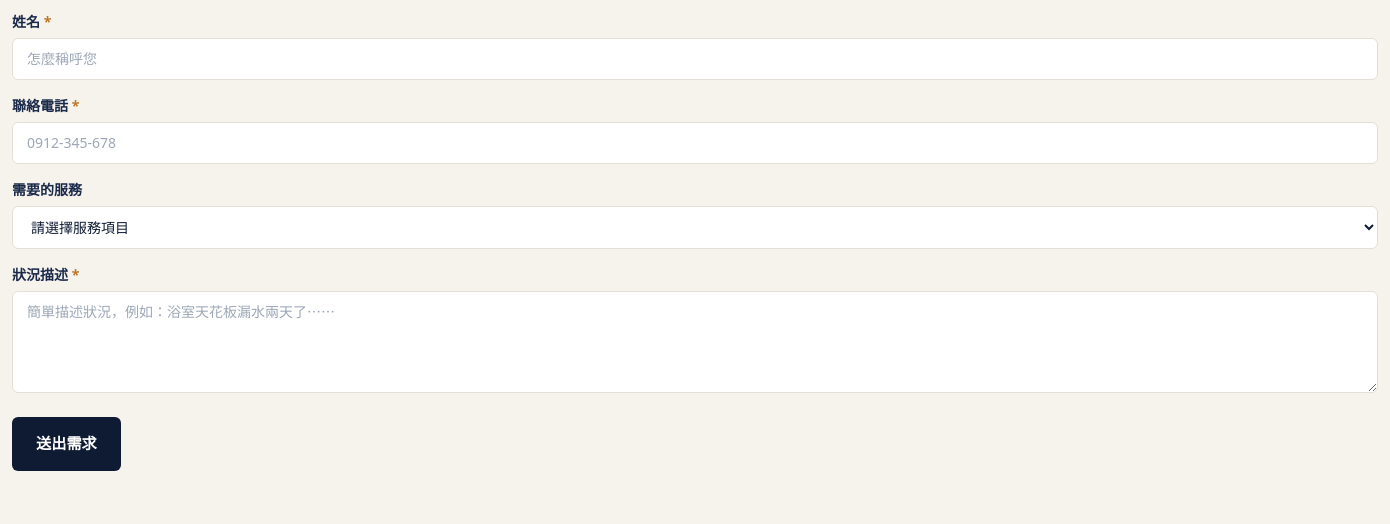
Test case: ContactForm › shows a submit error when the API fails
This screenshot has width=1390, height=524.
Step 1. Type "王小明" into the field labelled "姓名 *" → (695, 59), box [12, 38, 1378, 80]
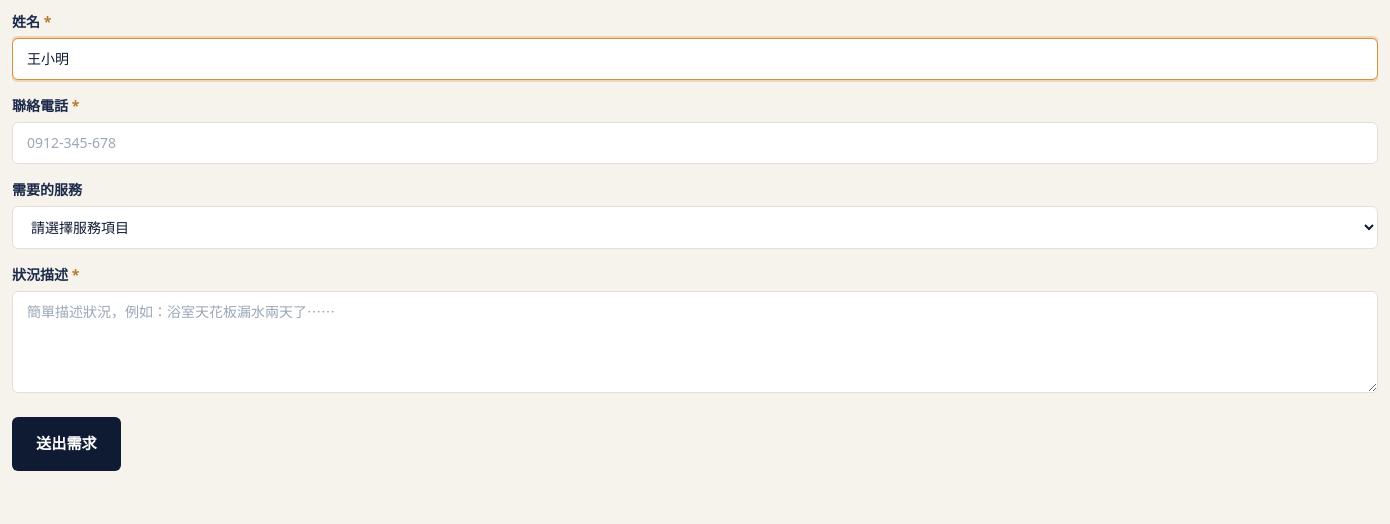
Step 2. Type "0912345678" into the field labelled "聯絡電話 *" → (695, 143), box [12, 122, 1378, 164]
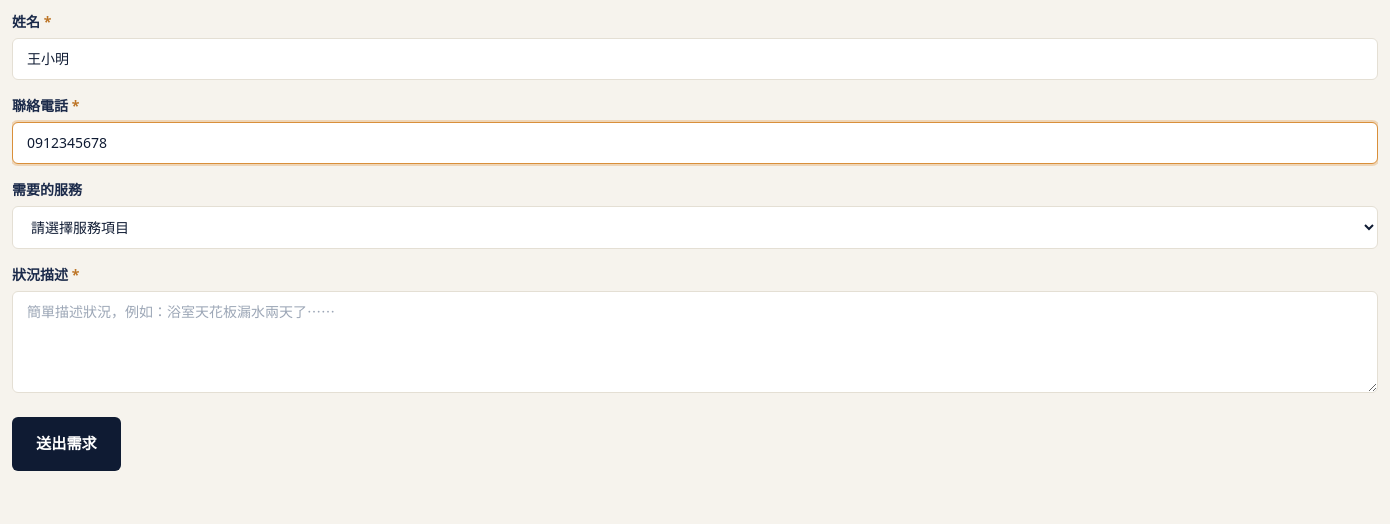
Step 3. Type "跳電" into the text box labelled "狀況描述 *" → (695, 342), box [12, 291, 1378, 393]
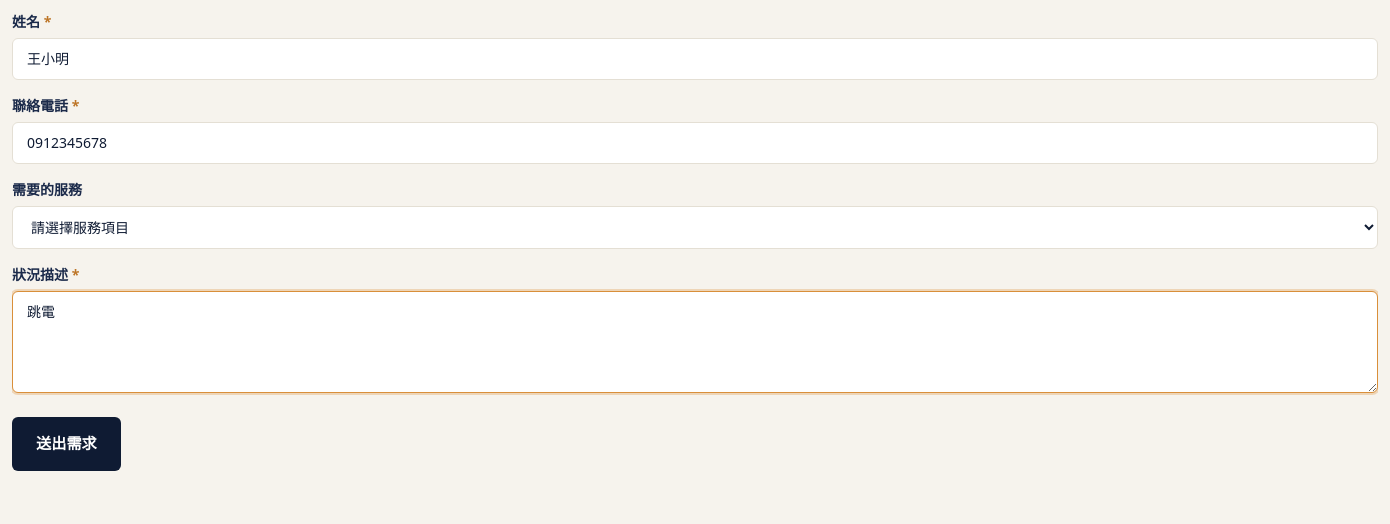
Step 4. Click the button "送出需求" → (66, 444), box [12, 417, 121, 471]
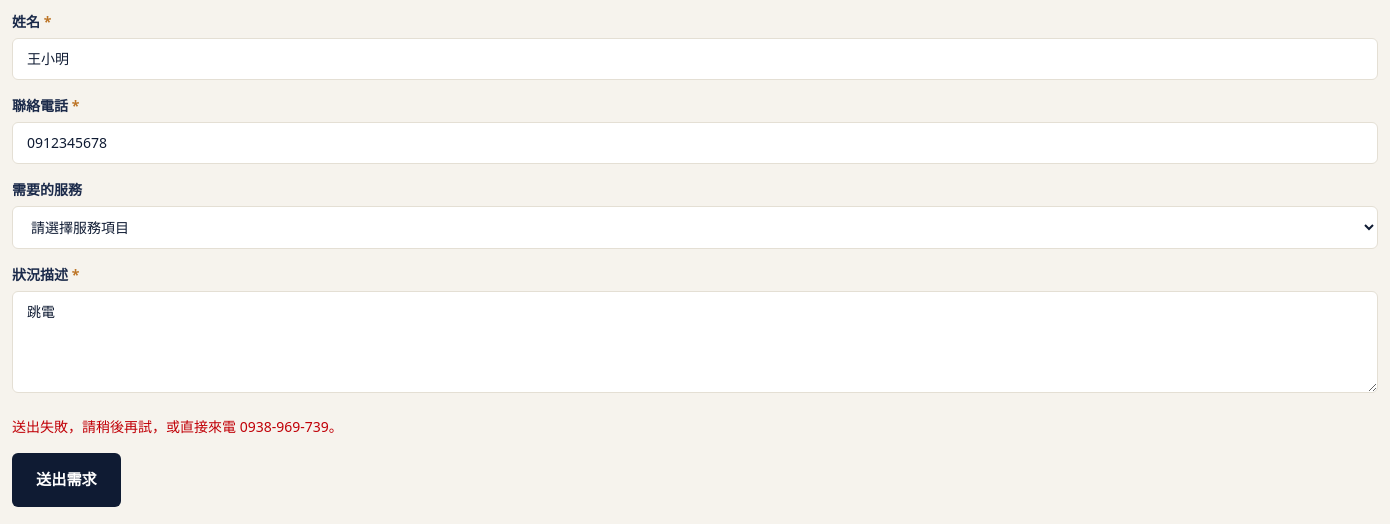
Expected: the message "送出失敗，請稍後再試，或直接來電 0938-969-739。" is shown, [12, 417, 343, 436]
